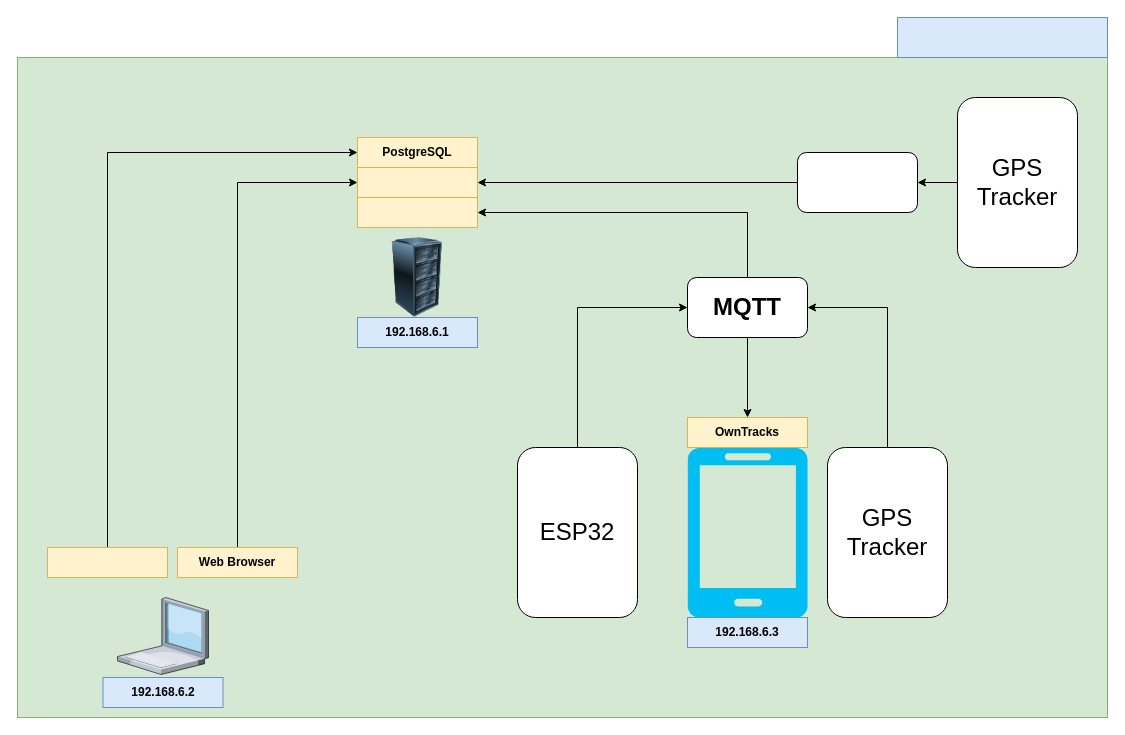
Some shapes in this 1125 by 735 pixel diagram are drawn without their labels. The shapes that lost their labels are listed below. From the top down, each one's centre as x and y in pixels, then its label:
At point 1002,37: "VPN".
At point 417,182: "Node-Red".
At point 857,182: "API".
At point 417,212: "Mosquitto".
At point 107,562: "QGIS".
